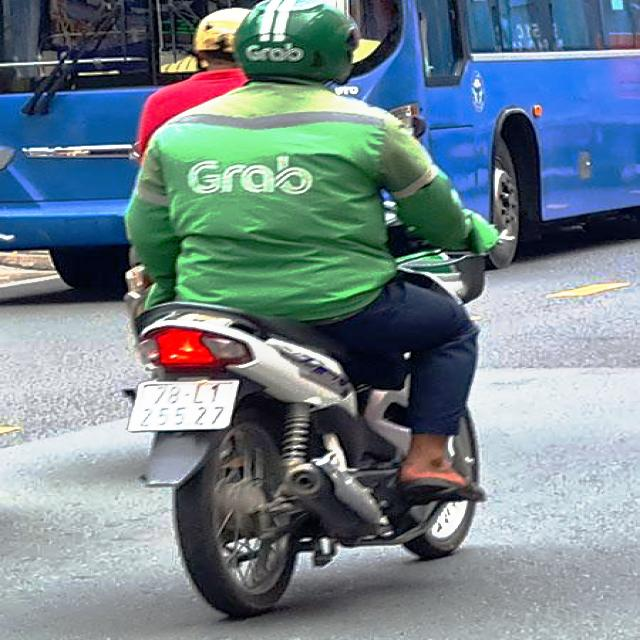license_plate: (126, 382, 246, 431)
